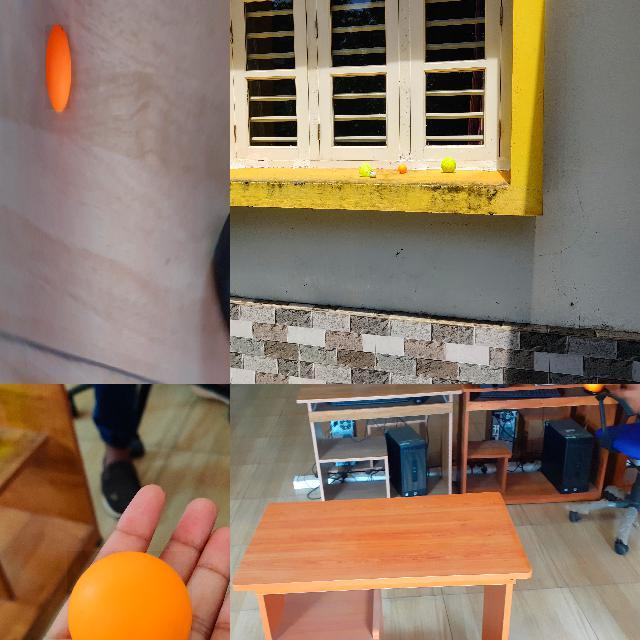ping-pong-ball: (67, 551, 193, 639), (45, 24, 71, 110), (582, 384, 604, 395), (398, 164, 406, 172)
